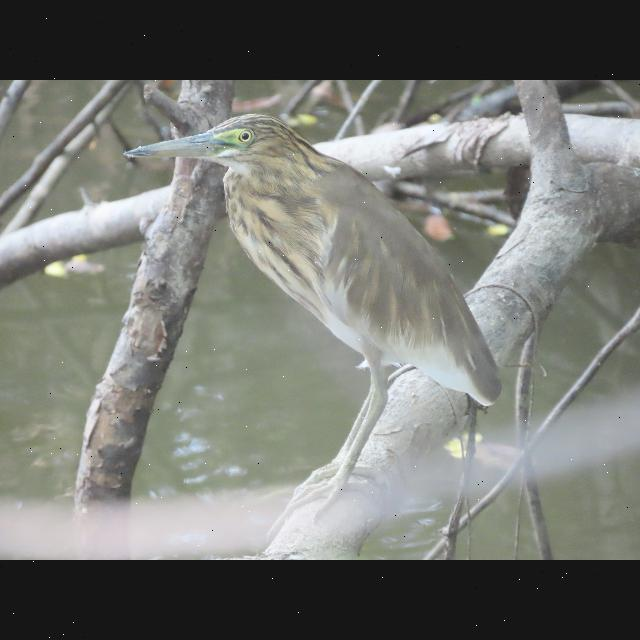heron: (114, 110, 506, 512)
